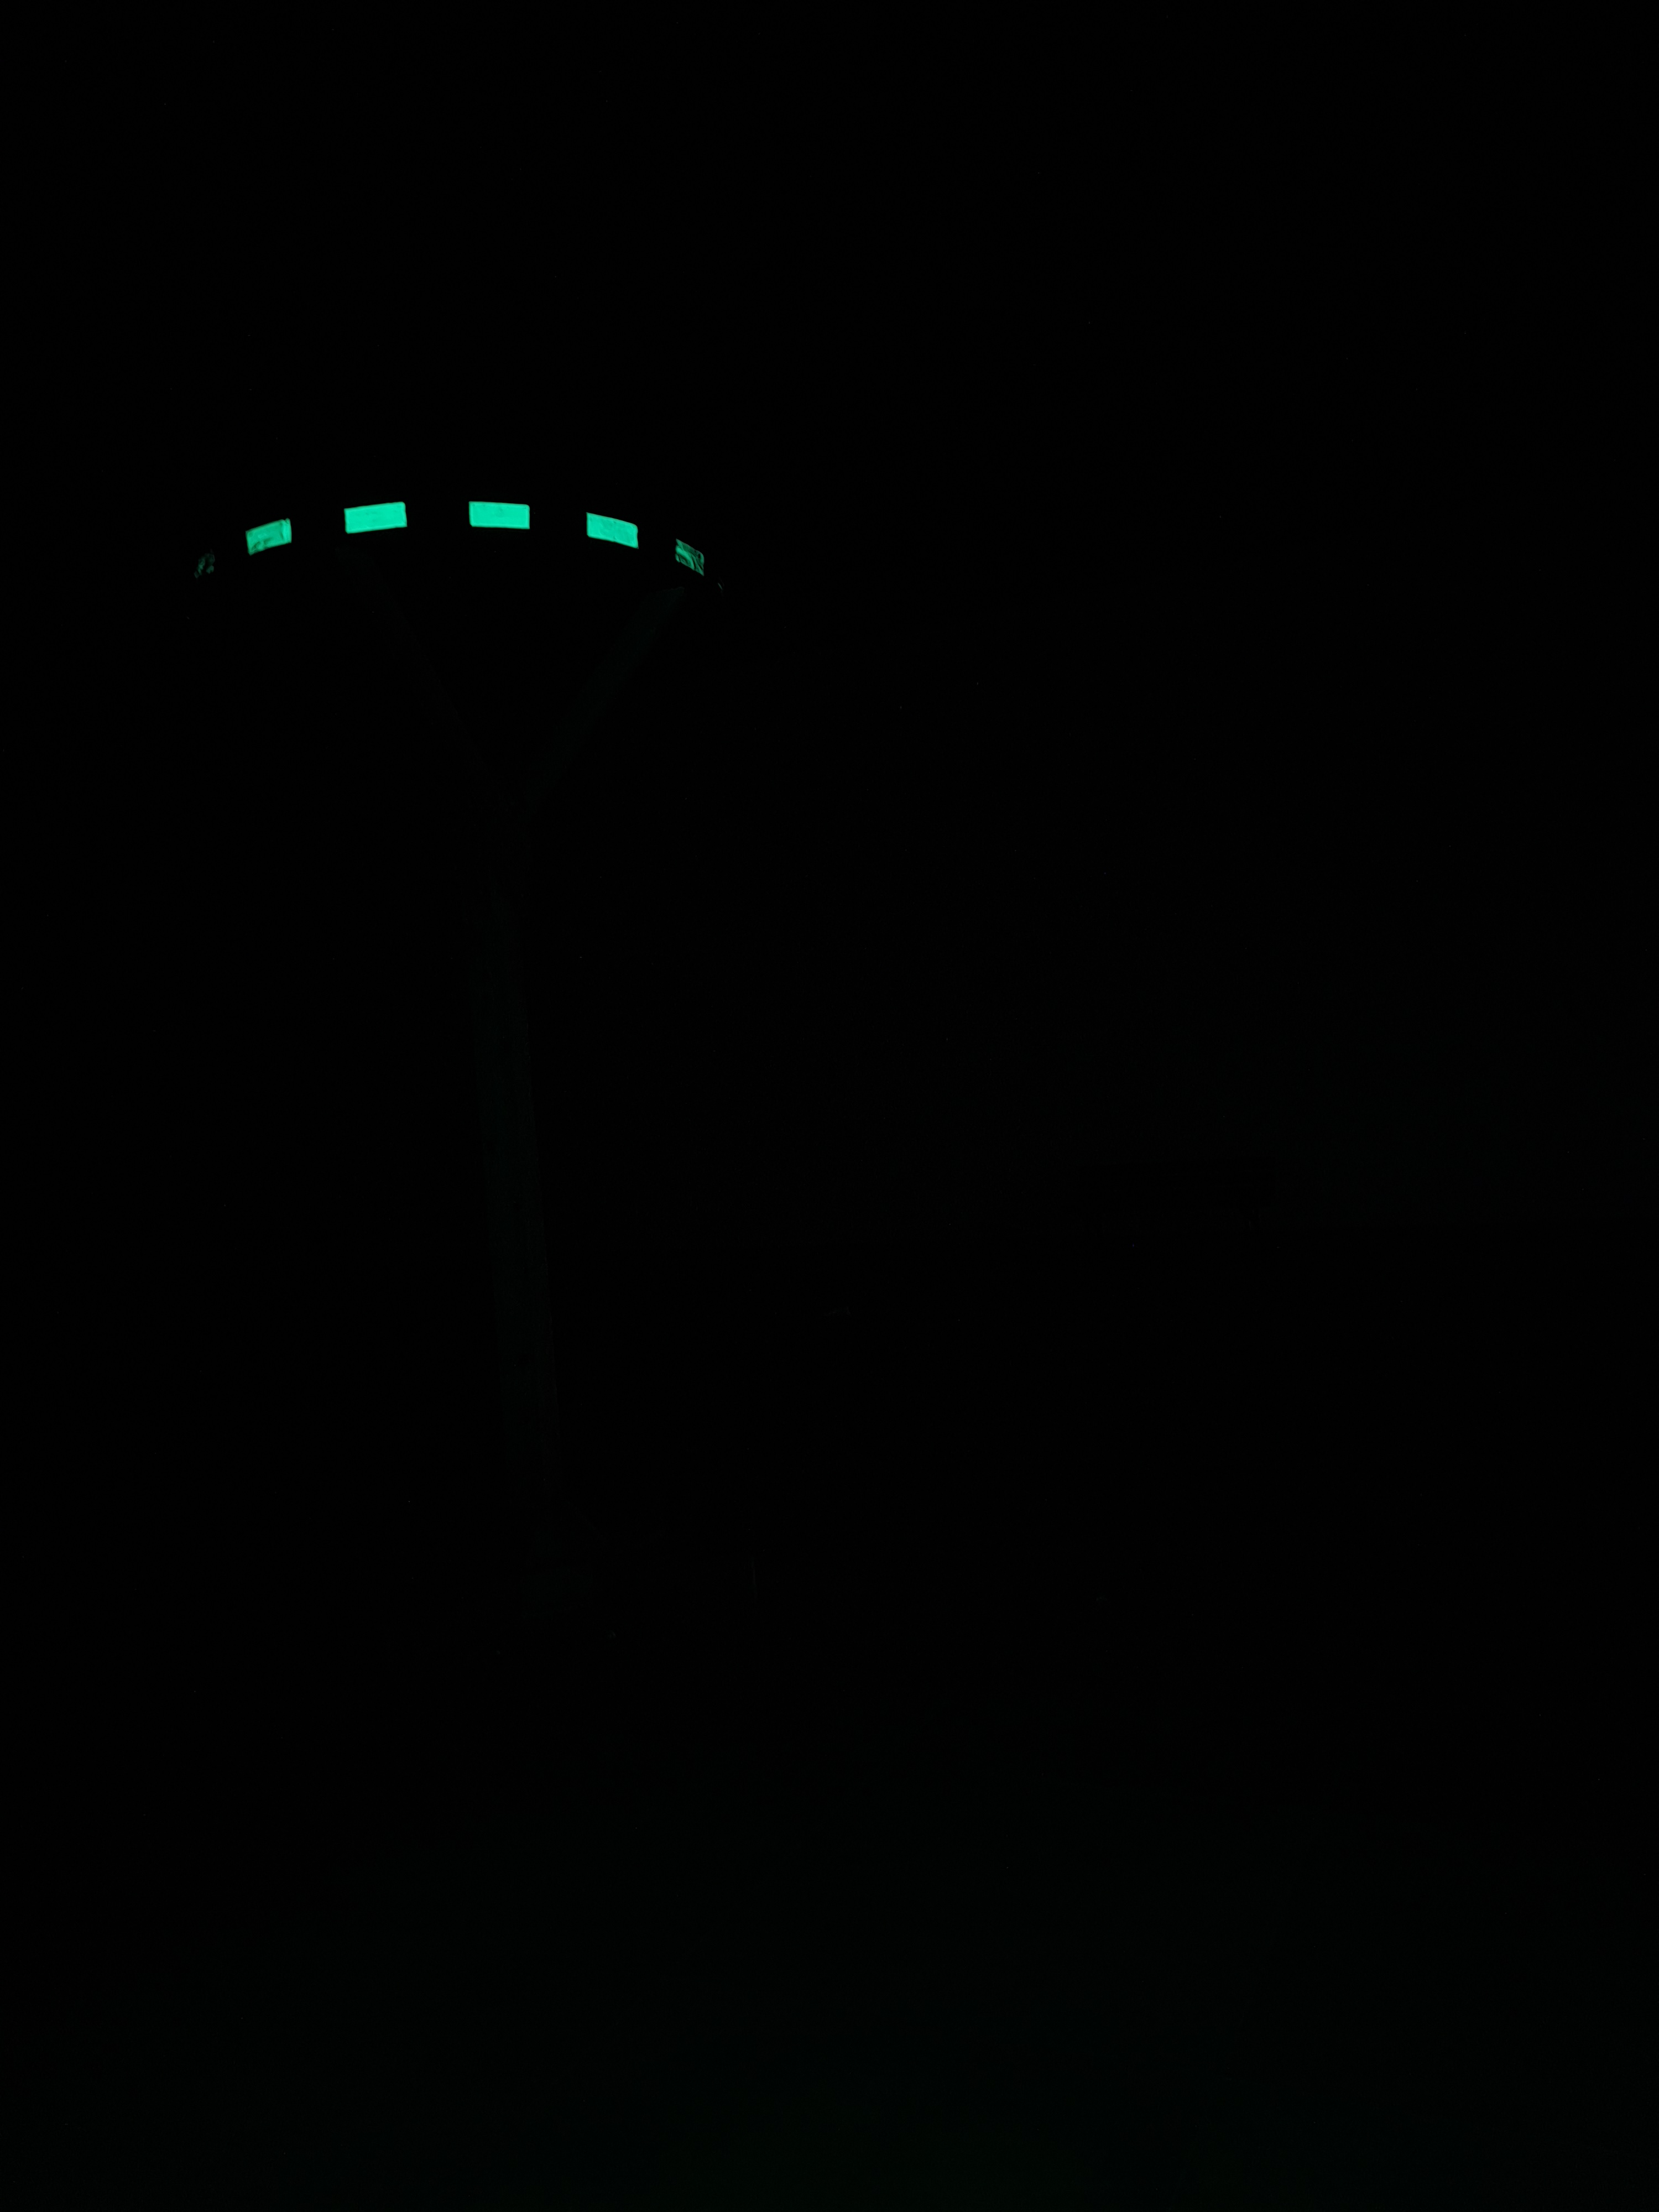hoop: (178, 500, 720, 587)
